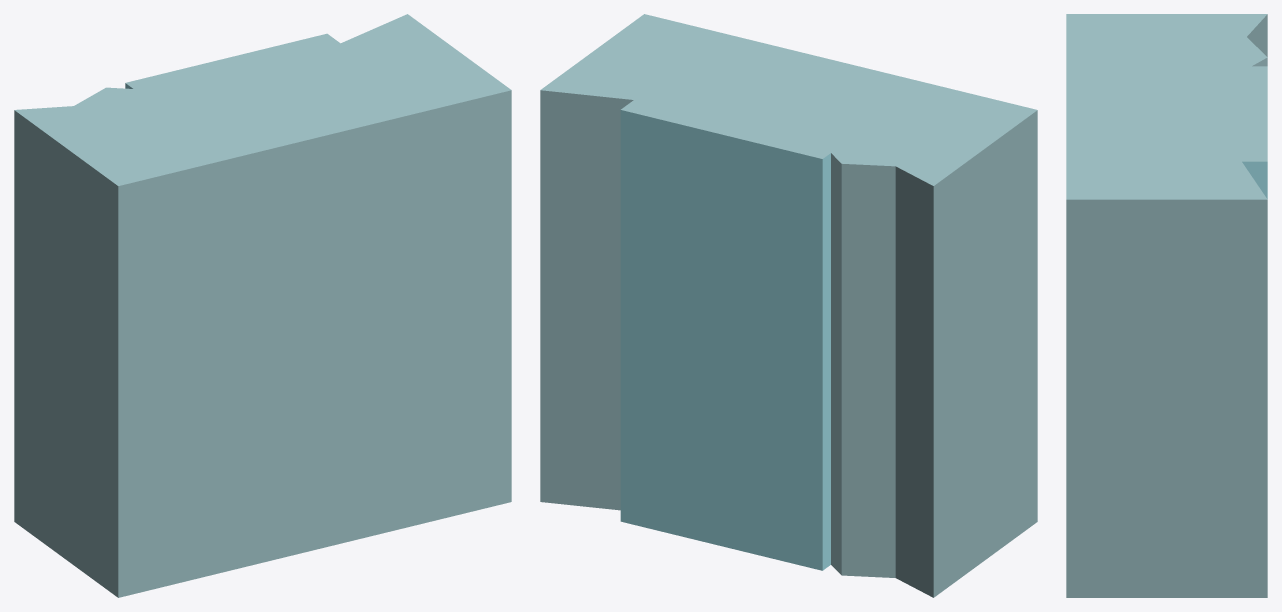
Rendered from cliffGrey_waterfallMid.obj.
3 views of the same model, side by side, from view 1: azimuth 30°, elevation 25°; view 2: azimuth 150°, elevation 25°; view 3: azimuth 270°, elevation 25° (orthographic). The views are drawn at different scales.
Parts seen in each view (by area): view 1: cliffGrey_waterfallMid; view 2: cliffGrey_waterfallMid; view 3: cliffGrey_waterfallMid.
Part boxes in pixels (x1,y1,x2,y2): cliffGrey_waterfallMid: (14,14,511,597); cliffGrey_waterfallMid: (540,14,1037,597); cliffGrey_waterfallMid: (1066,14,1267,597).
Bounding box in the file's own units: 10 × 10 × 4.58.
